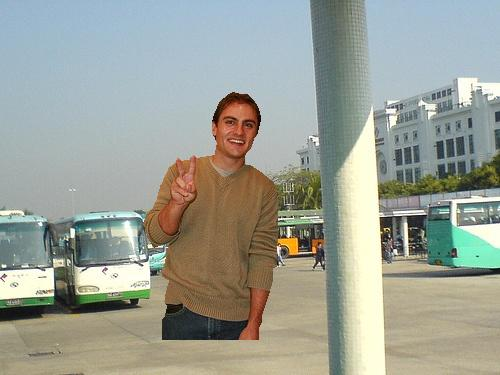tampered: (144, 93, 278, 340)
